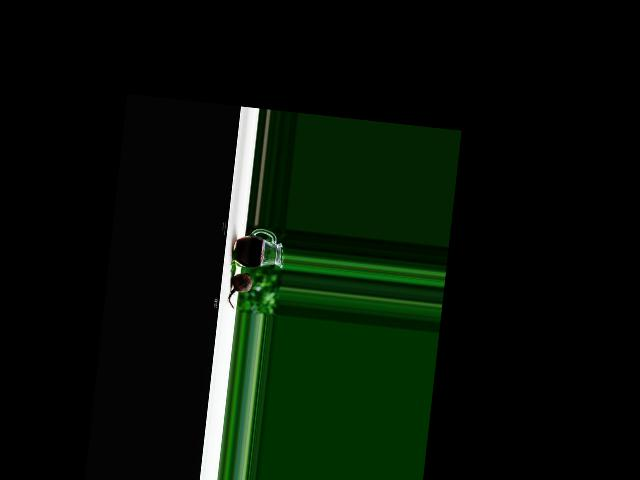beet: (227, 271, 252, 309)
